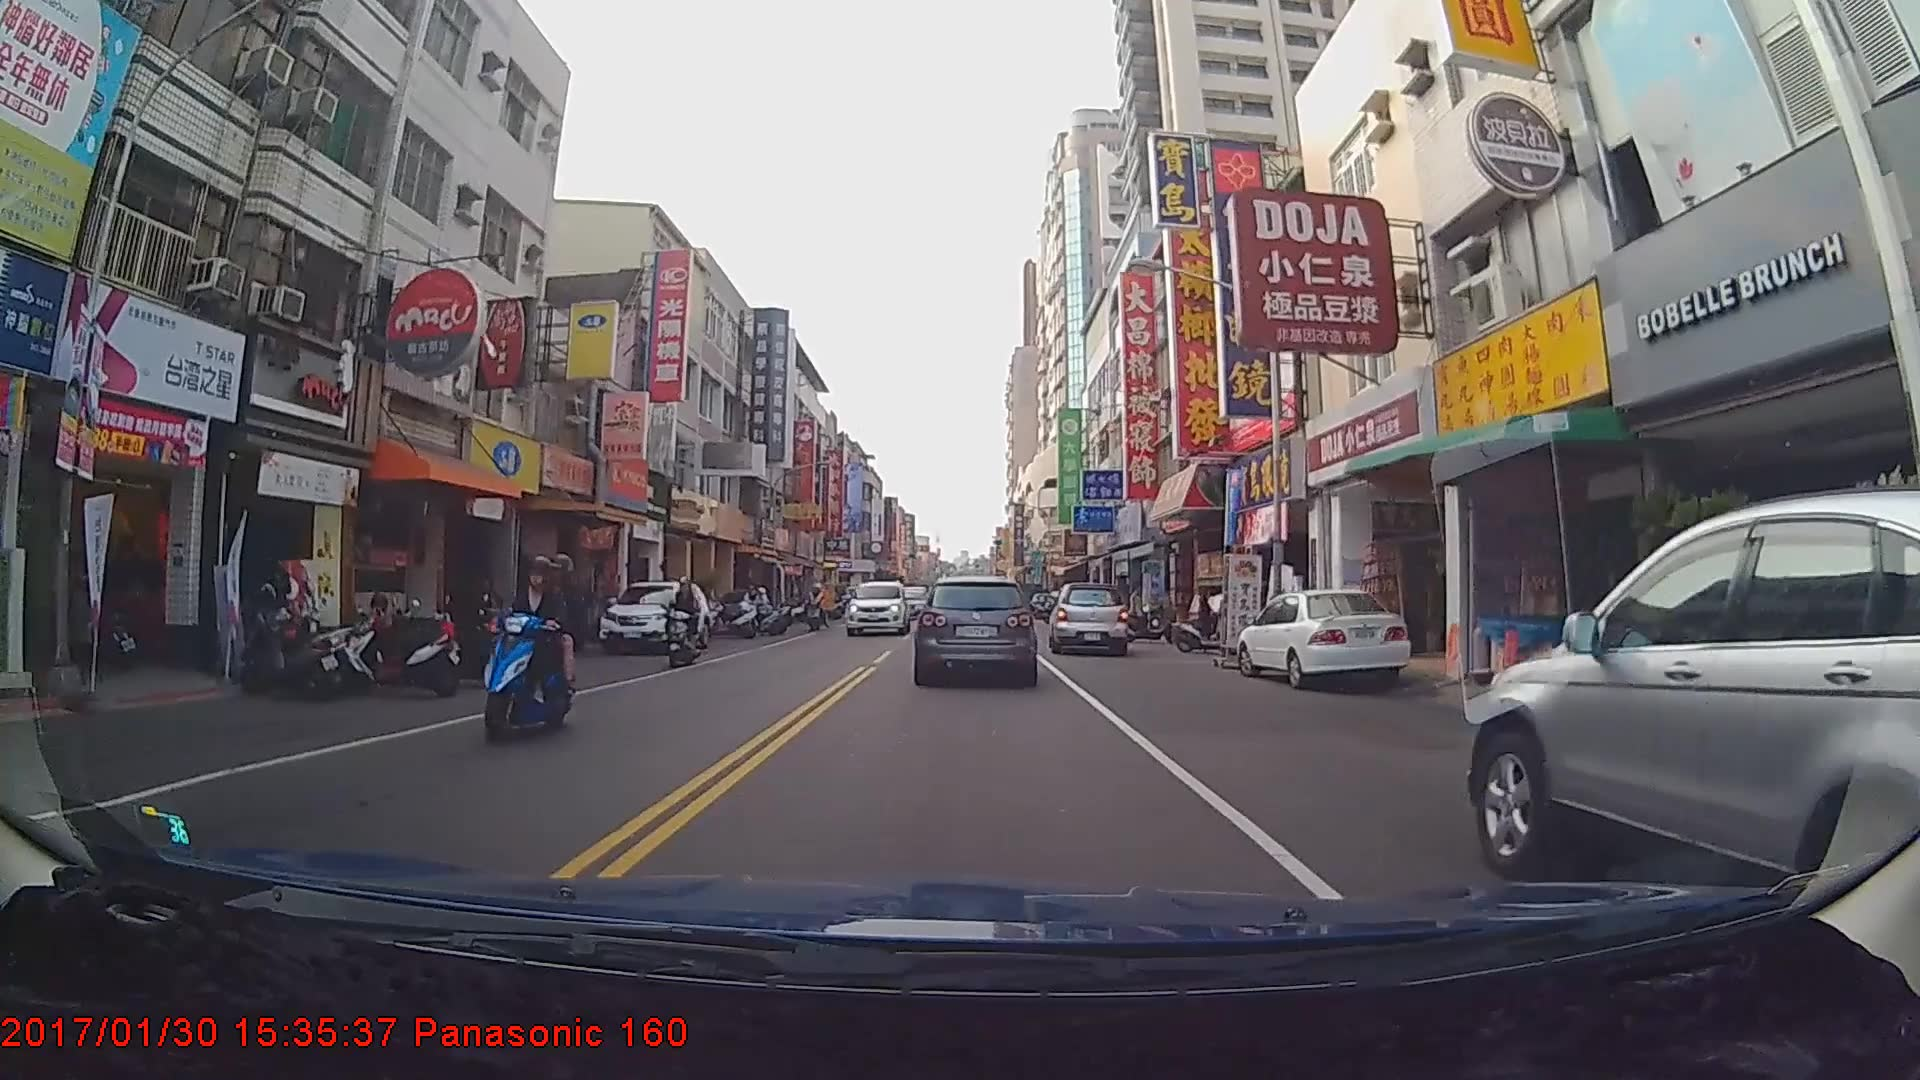rider: (488, 550, 592, 746), (1176, 585, 1241, 654), (666, 571, 707, 664)
vehicle: (1467, 492, 1920, 999), (1238, 583, 1411, 683), (917, 574, 1036, 683), (596, 579, 711, 654), (1049, 581, 1129, 653), (846, 579, 910, 636)
